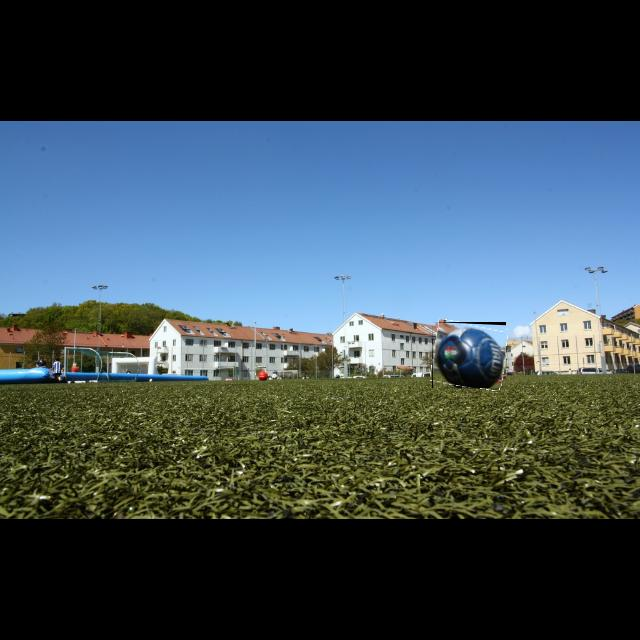Football: (432, 322, 506, 388), (256, 367, 266, 377)
